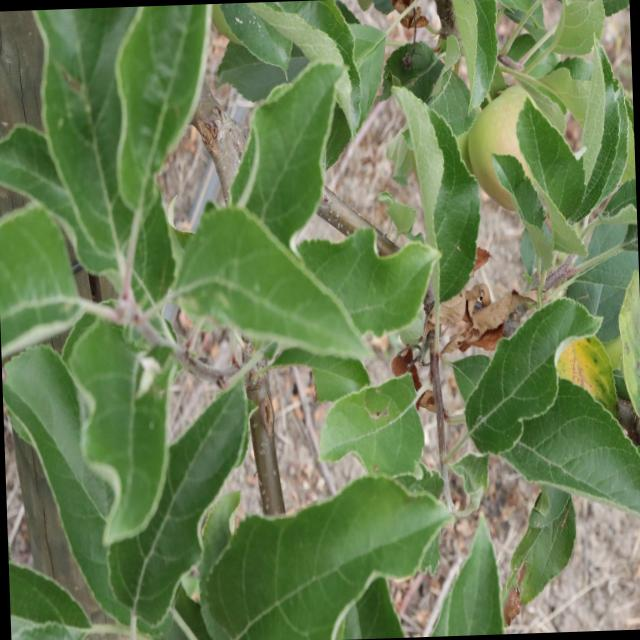-FireBlight-: (383, 272, 527, 421)
